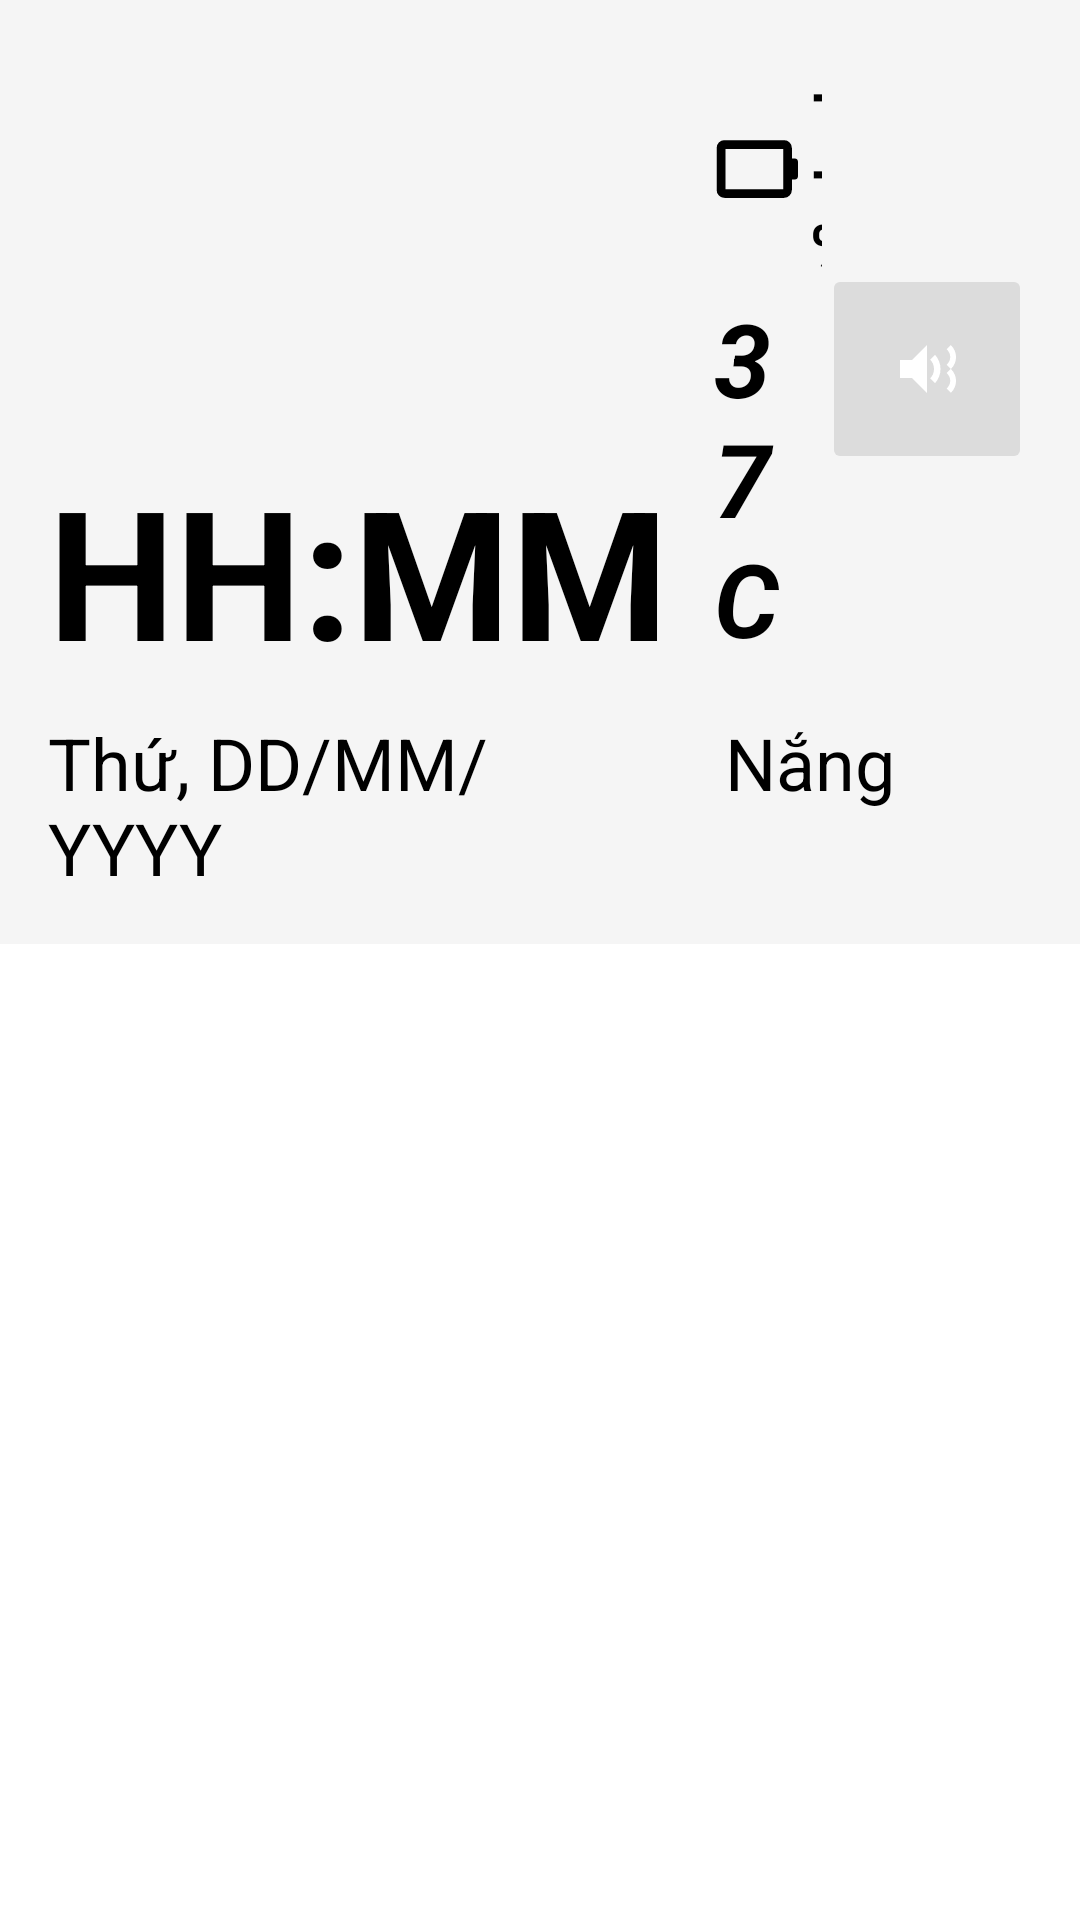

Icon click points for this 1080px x 1920px phone screenshot, format [x,y]:
Mức pin: [757,169]
Điều chỉnh âm lượng: [927,369]
